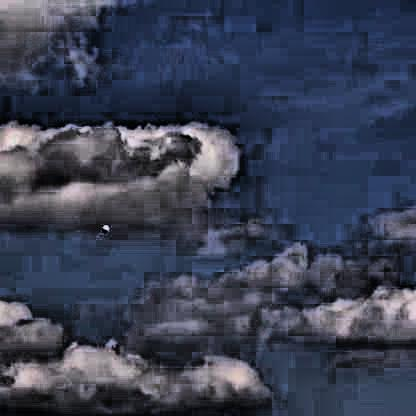golfball: (98, 222, 107, 231)
